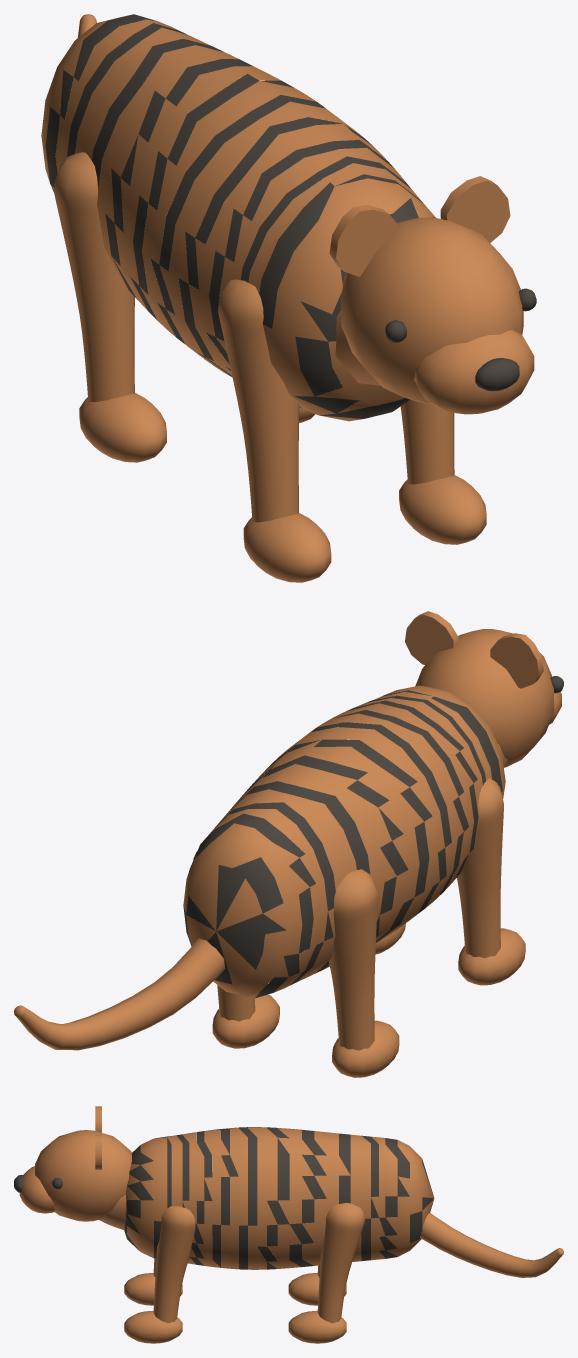
Rendered from rainforest-and-jungle-fauna-bengal-tiger-0b4db4b1__21662.glb.
The picture shows the model from 3 angles, top to bottom: view 1: azimuth 30°, elevation 25°; view 2: azimuth 150°, elevation 25°; view 3: azimuth 270°, elevation 25°; orthographic projection. The views are drawn at different scales.
Visible parts, largest first — view 1: bengal-tiger; view 2: bengal-tiger; view 3: bengal-tiger.
Boxes of the visible parts, x1=… form: bengal-tiger: x1=41, y1=14, x2=536, y2=582; bengal-tiger: x1=14, y1=611, x2=563, y2=1077; bengal-tiger: x1=14, y1=1106, x2=563, y2=1343.
Size of the model in its own units: 0.7353 by 1.13 by 2.8.
